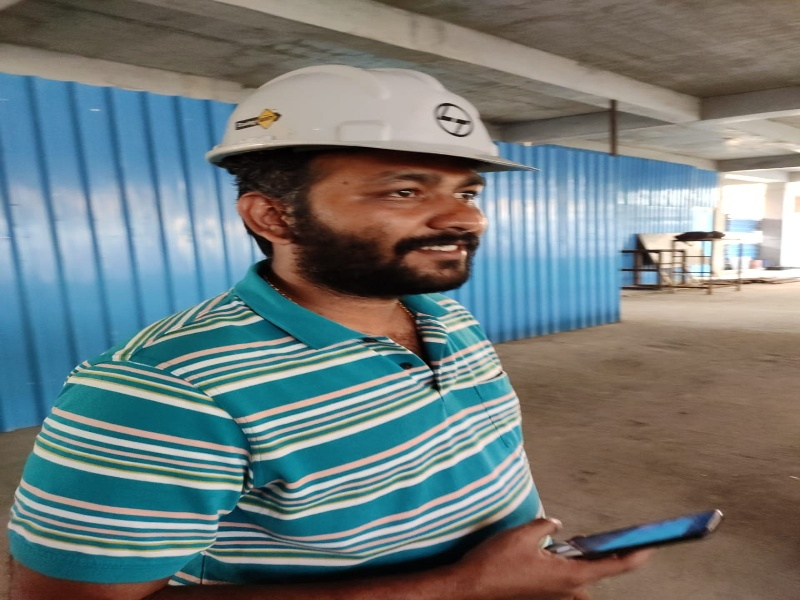Face: (206, 58, 537, 168)
